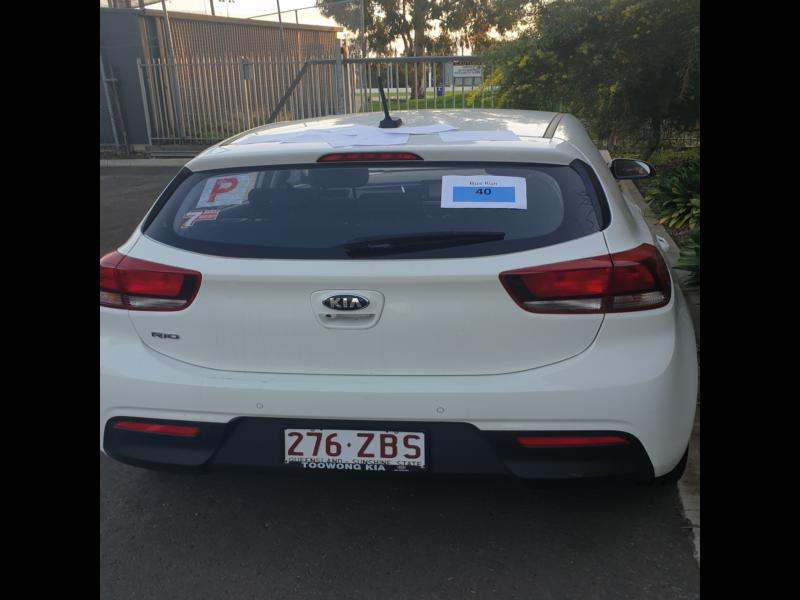BusRun: (453, 186, 518, 203)
PlateNo: (281, 424, 431, 470)
